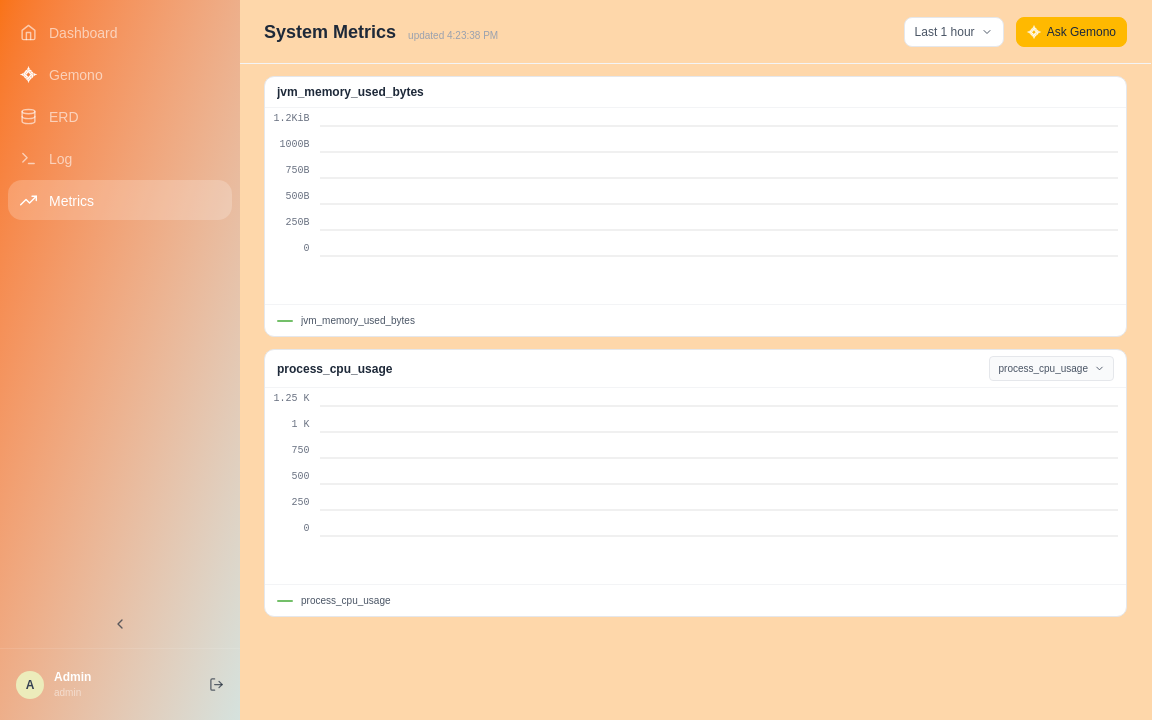
MetricsPage › daftar metrik tetap kosong kalau getNames gagal
The image size is (1152, 720).
What coordinates should you click on to do the following:
click the button "process_cpu_usage"
I would click on:
 (1052, 368)
Its box is [990, 356, 1114, 381].
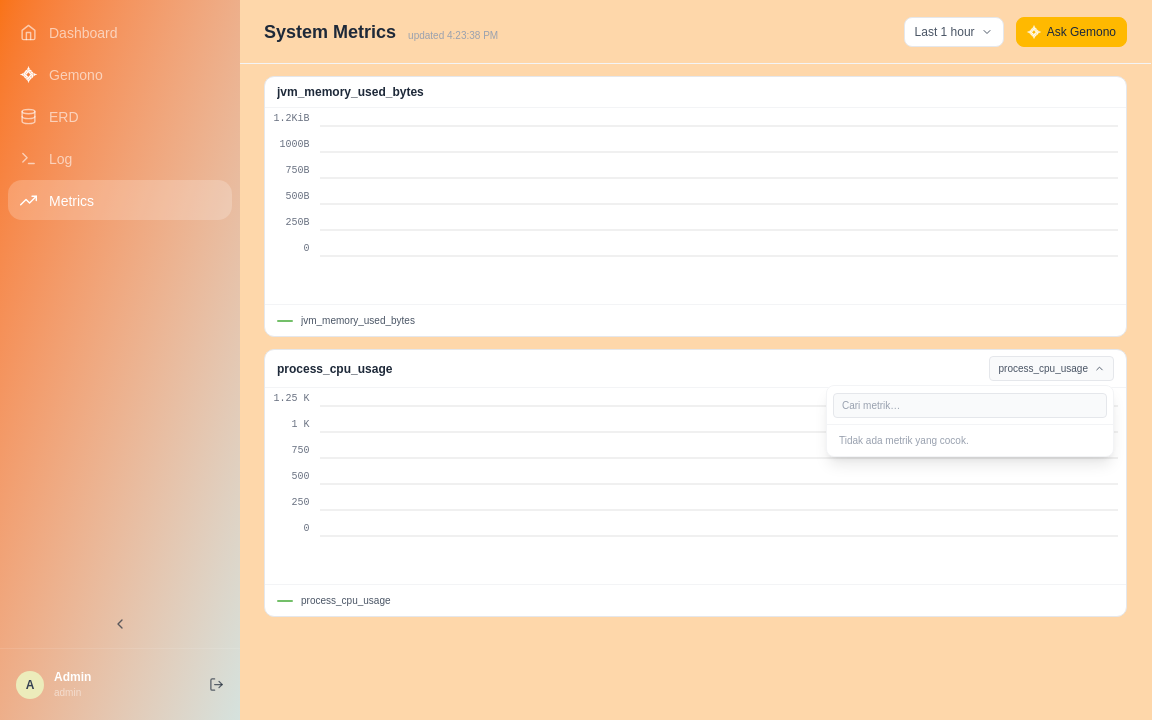
Check: the text "Tidak ada metrik yang cocok." is shown, box [839, 435, 969, 446]
